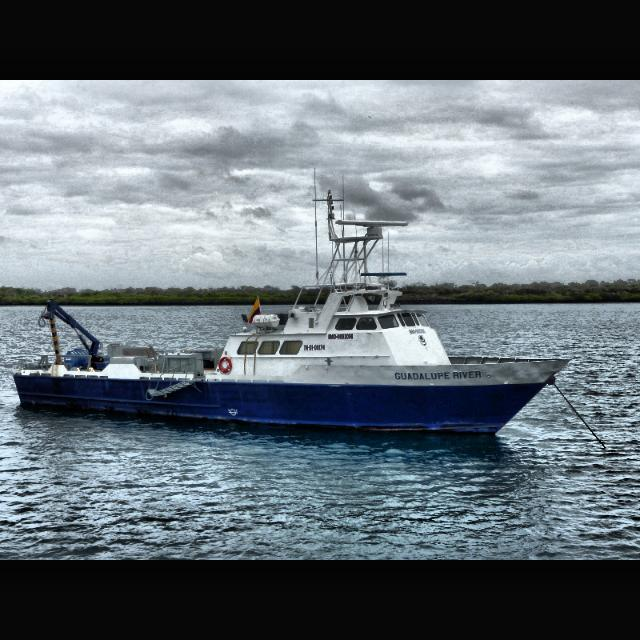patrol_vessel: (11, 278, 576, 442)
